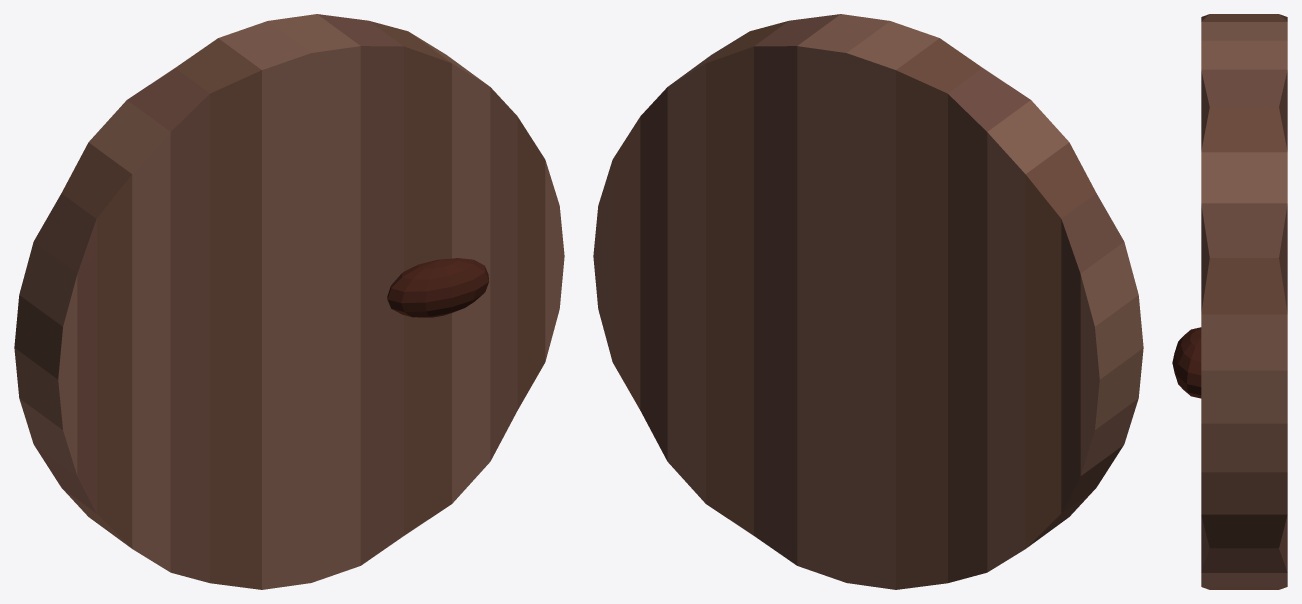
File: littleDoor.fbx
3 renders of one model, left to right at view 1: azimuth 30°, elevation 25°; view 2: azimuth 150°, elevation 25°; view 3: azimuth 270°, elevation 25°, orthographic.
Visible parts, largest first — view 1: Door, Handle; view 2: Door; view 3: Door, Handle.
Boxes of the visible parts, box(x1,y1,x2,y2) form: Door: box(14, 14, 564, 589); Handle: box(387, 258, 489, 317); Door: box(593, 14, 1143, 589); Door: box(1201, 14, 1287, 589); Handle: box(1172, 327, 1201, 398).
Size of the model in its own units: 200 by 200 by 40.
